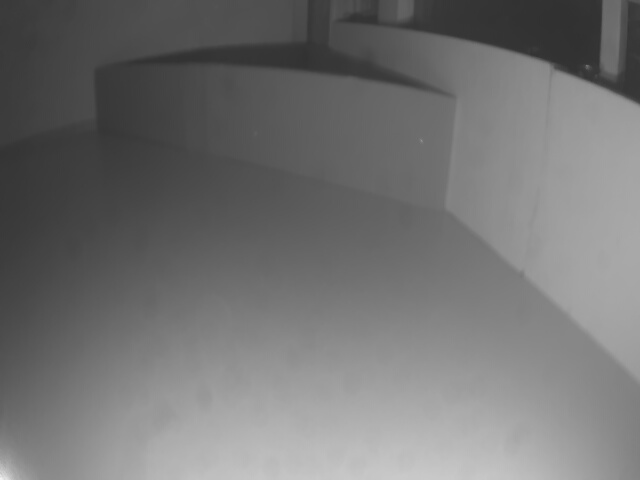Point: (91, 65, 451, 210)
